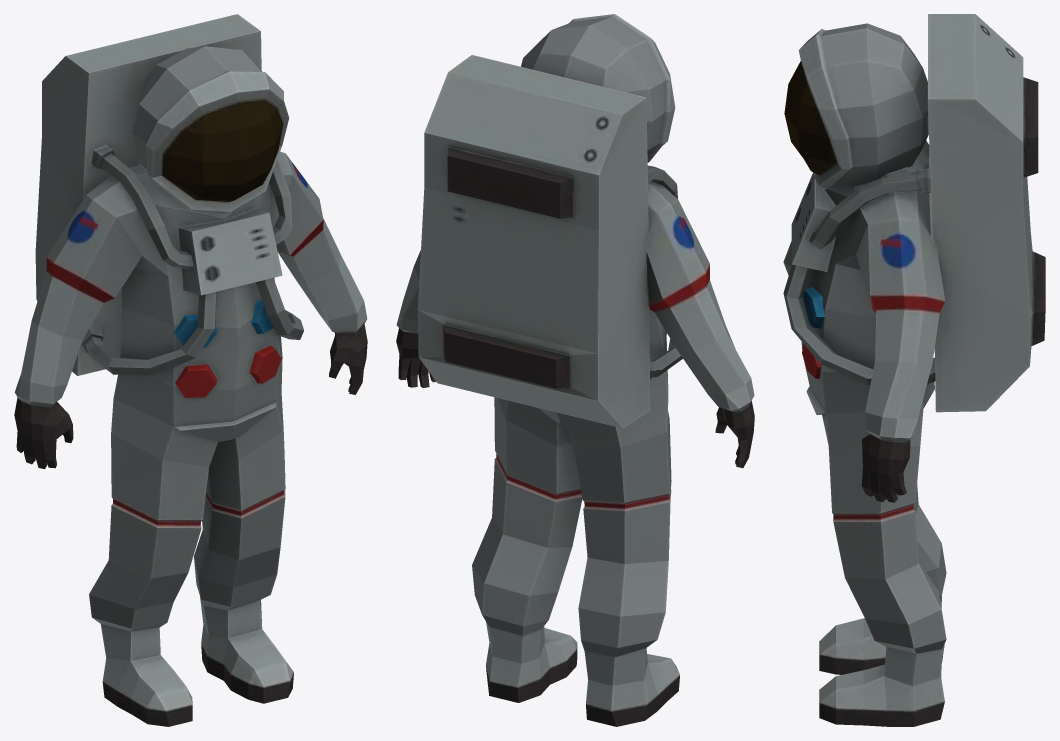
File: med.glb
3 views of the same model, side by side, from view 1: azimuth 30°, elevation 25°; view 2: azimuth 150°, elevation 25°; view 3: azimuth 270°, elevation 25° (orthographic).
Parts seen in each view (by area): view 1: node-0; view 2: node-0; view 3: node-0.
Boxes of the visible parts, x1,y1,x2,y2 form: node-0: (14,14,367,726); node-0: (396,14,754,726); node-0: (783,14,1045,726).
Bounding box in the file's own units: 1.12 × 2.01 × 0.7235.
1 material, 1 textured.
